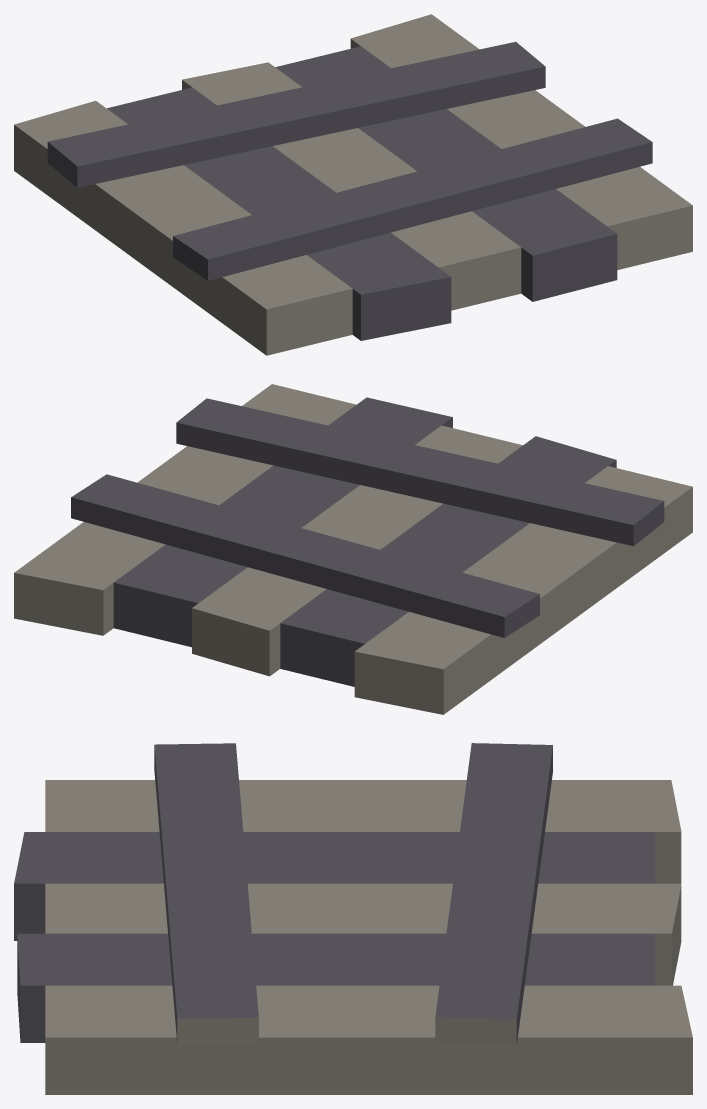
Rendered from TB_D_Bd_Bottom_Cover_C.FBX.
3 renders of one model, top to bottom at view 1: azimuth 30°, elevation 25°; view 2: azimuth 150°, elevation 25°; view 3: azimuth 270°, elevation 25°, orthographic. The views are drawn at different scales.
Visible parts, largest first — view 1: TB_D_Bd_Bottom_Cover_C; view 2: TB_D_Bd_Bottom_Cover_C; view 3: TB_D_Bd_Bottom_Cover_C.
Part boxes in pixels (bbox=[...]): TB_D_Bd_Bottom_Cover_C: bbox=[14, 14, 692, 355]; TB_D_Bd_Bottom_Cover_C: bbox=[14, 384, 692, 714]; TB_D_Bd_Bottom_Cover_C: bbox=[14, 743, 692, 1094].
Size of the model in its own units: 1.07 by 0.1514 by 1.11.
